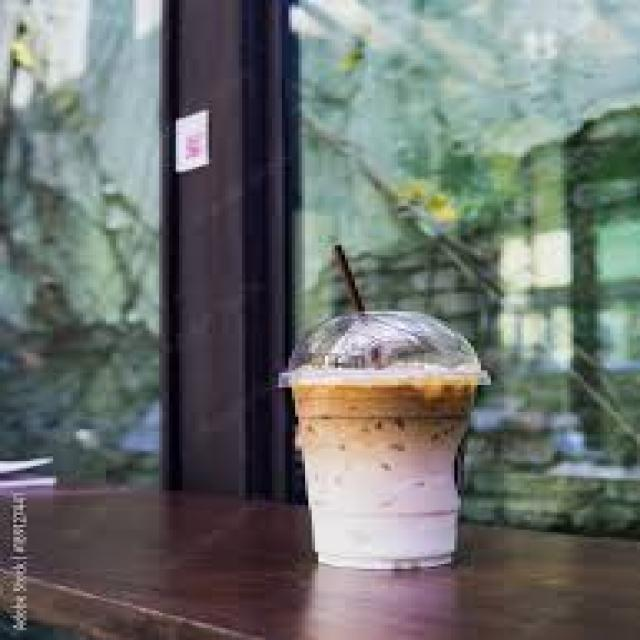bottle: (298, 385, 475, 568)
